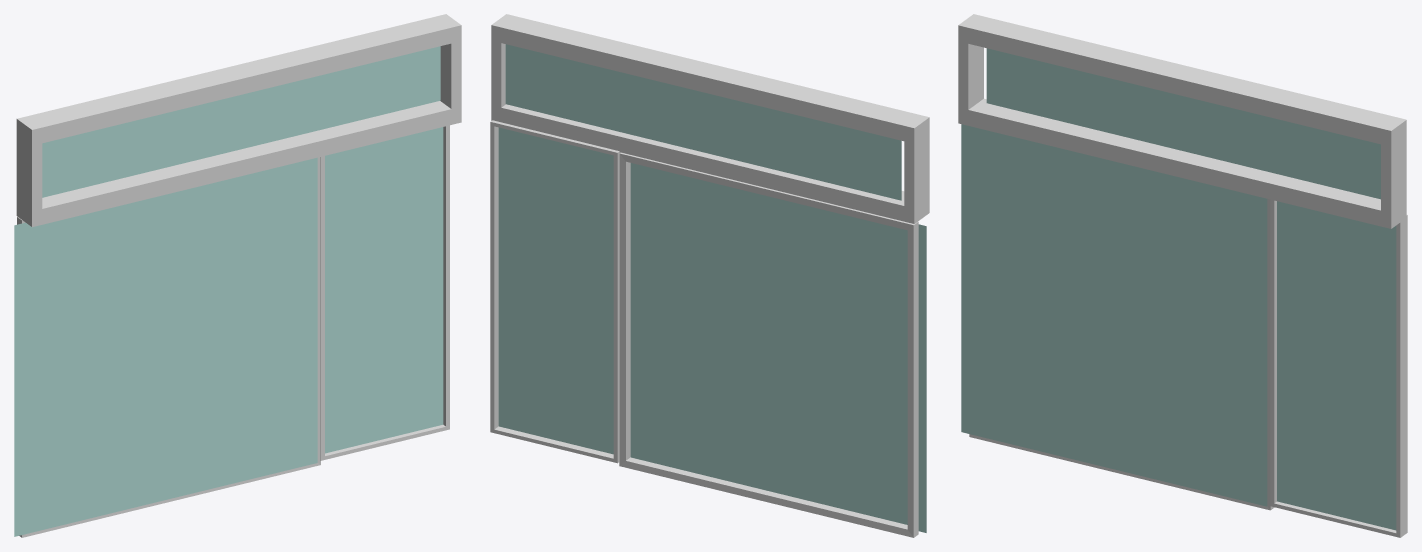
File: puerta gsit.fbx
3 views of the same model, side by side, from view 1: azimuth 30°, elevation 25°; view 2: azimuth 150°, elevation 25°; view 3: azimuth 330°, elevation 25° (orthographic). The views are drawn at different scales.
Parts seen in each view (by area): view 1: Plane.042, Plane.043, entrada.001, Plane.041, puerta der.001; view 2: Plane.042, entrada.001, Plane.043, Plane.041, puerta der.001; view 3: Plane.042, Plane.043, entrada.001, Plane.041, puerta der.001.
Boxes of the visible parts, box(x1,y1,x2,y2) form: Plane.042: box(14, 157, 317, 536); Plane.043: box(325, 127, 443, 453); entrada.001: box(16, 14, 461, 537); Plane.041: box(42, 46, 440, 197); puerta der.001: box(320, 125, 449, 460); Plane.042: box(630, 163, 926, 532); entrada.001: box(491, 14, 929, 537); Plane.043: box(498, 127, 613, 454); Plane.041: box(505, 44, 901, 200); puerta der.001: box(490, 120, 620, 463); Plane.042: box(961, 124, 1267, 506); Plane.043: box(1277, 201, 1396, 530); entrada.001: box(958, 14, 1406, 510); Plane.041: box(986, 48, 1380, 199); puerta der.001: box(1270, 199, 1407, 537).
Size of the model in its own units: 12.8 by 11.64 by 0.8897.
